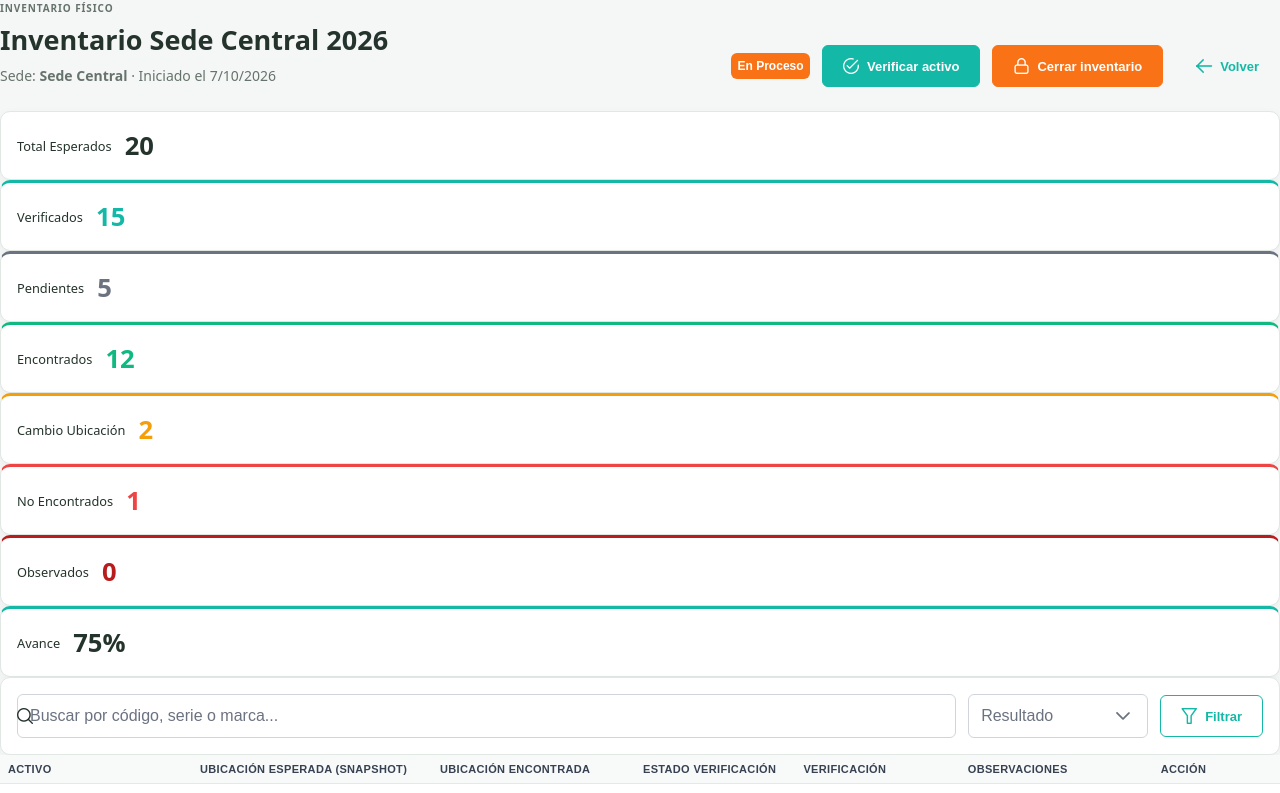
Test: Módulo de Inventarios Físicos (Frontend) › permite abrir el diálogo de verificación física de activo
Click the button "Verificar activo": (901,66) x1=822 y1=45 x2=980 y2=87
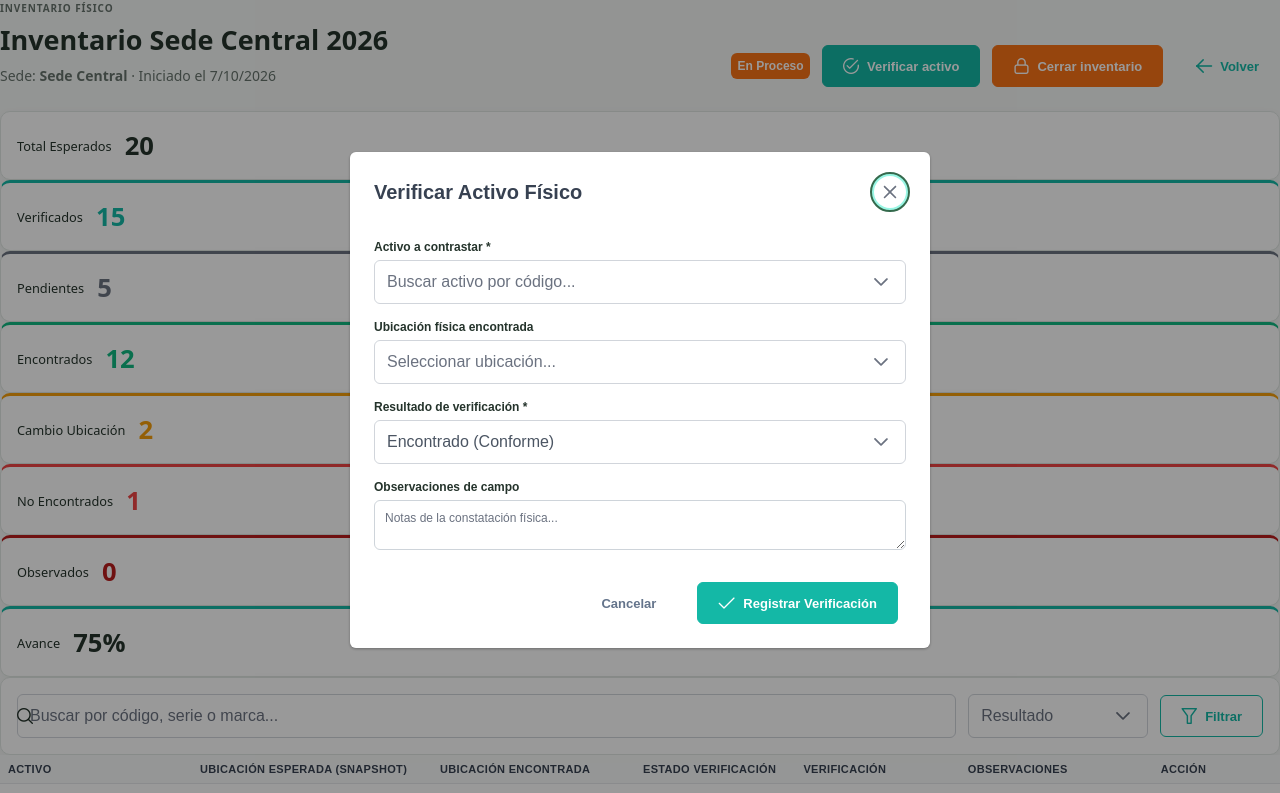
Check: the dialog is shown, box x1=350 y1=152 x2=930 y2=648
Check: the text "Verificar Activo Físico" is shown, box x1=374 y1=180 x2=582 y2=202
Check: the button "Registrar Verificación" is shown, box x1=697 y1=582 x2=898 y2=624
